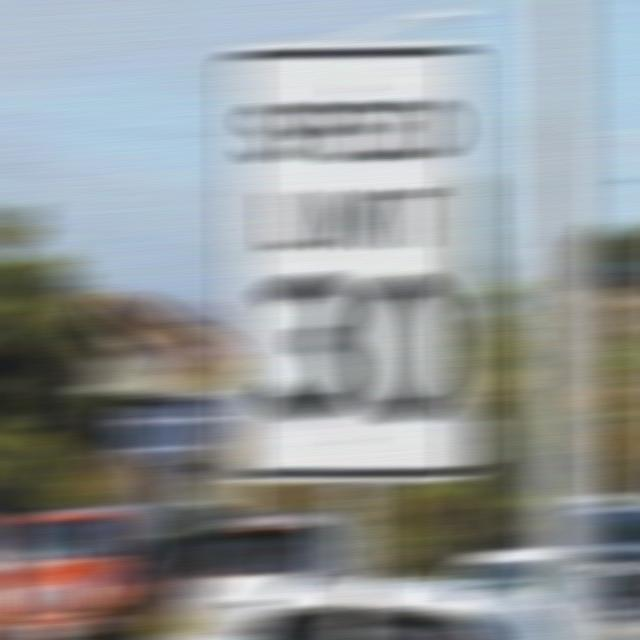speedLimit30: (233, 54, 471, 469)
